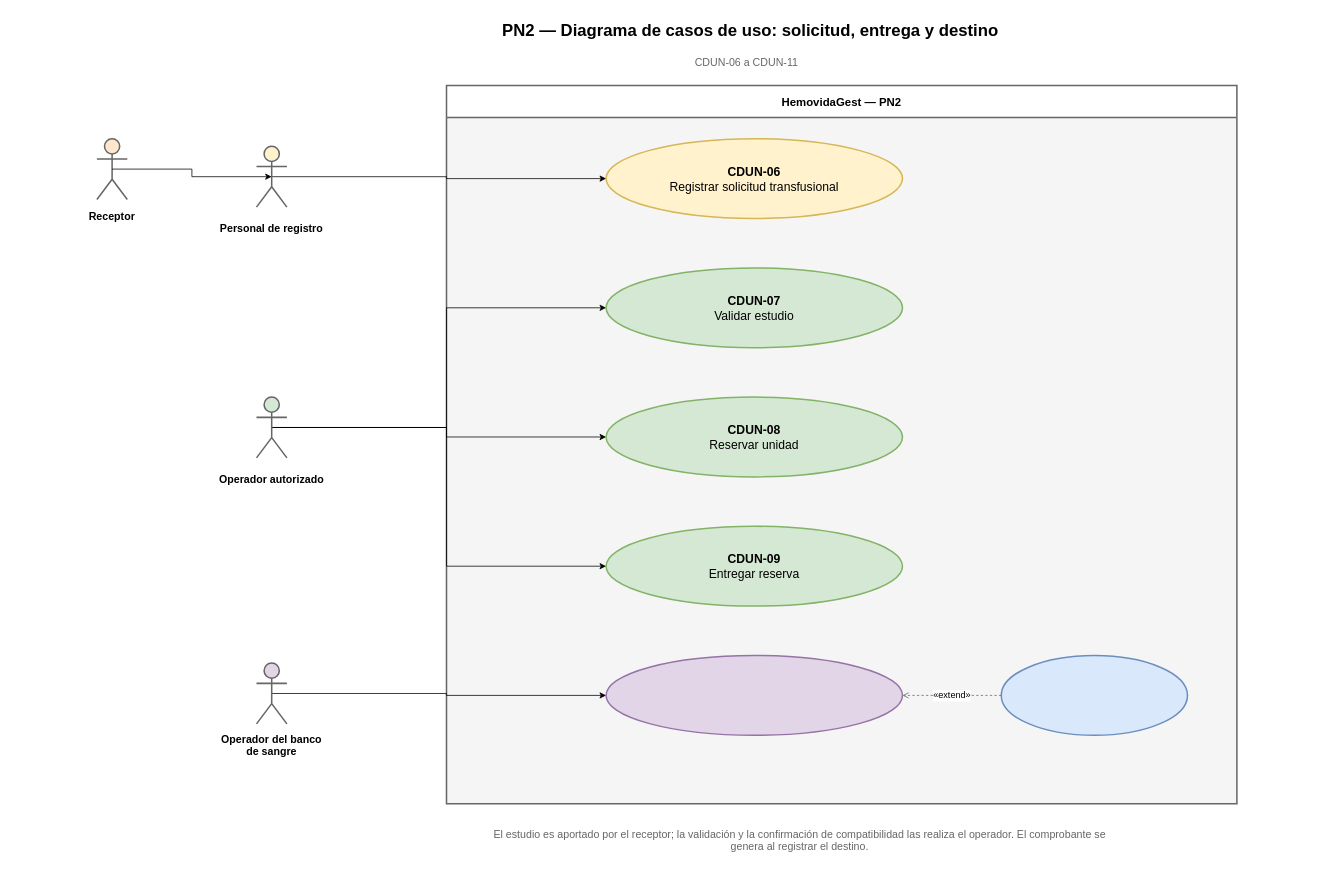
The diagram is 1333 pixels wide and 873 high, and some of its shapes have lost their labels. The shapes that lost their labels are listed below. From the top down, each one's box as (x1, y1, x2, y2) in pixels, then its label:
(605, 654, 903, 736): CDUN-10 Registrar destino
(1000, 654, 1188, 736): CDUN-11 Emitir comprobante de destino
